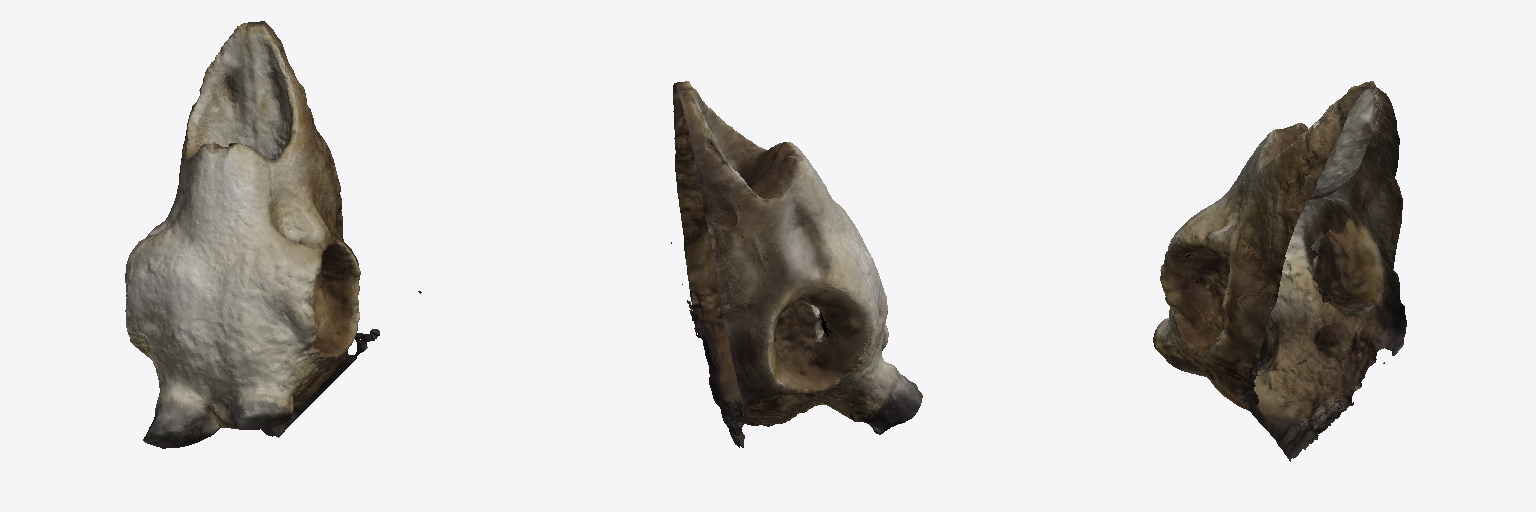
3 renders of one model, left to right at view 1: azimuth 30°, elevation 25°; view 2: azimuth 150°, elevation 25°; view 3: azimuth 270°, elevation 25°, orthographic.
Size of the model in its own units: 0.7589 by 1.06 by 0.6349.
Materials: 1 (1 with a texture image).